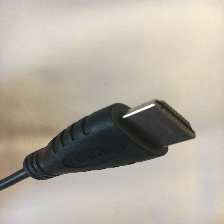hdmi_male: (21, 70, 206, 207)
